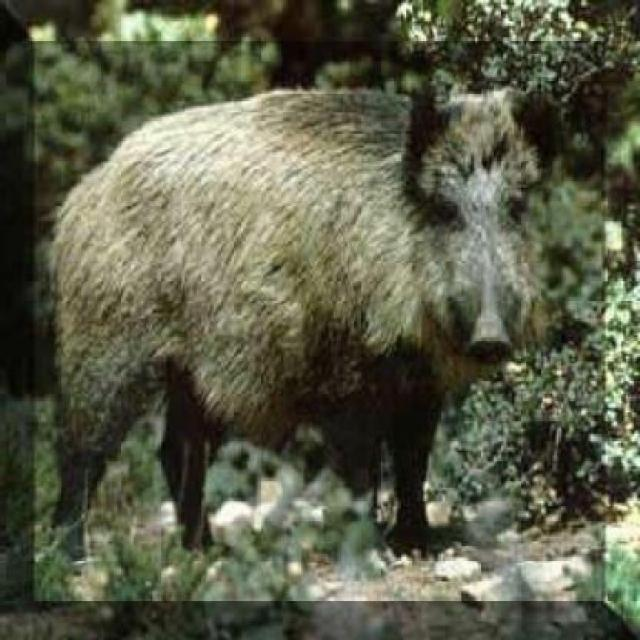Boar: (2, 88, 590, 626)
